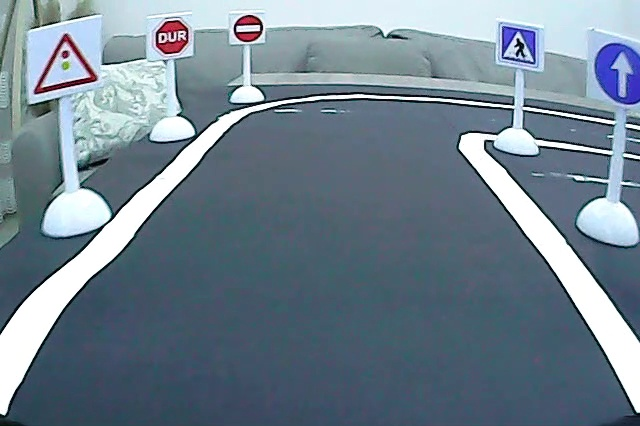do not enter: (232, 13, 265, 45)
pedestrian crossing: (499, 24, 541, 69)
red light: (31, 28, 101, 96)
stop sign: (154, 17, 191, 57)
